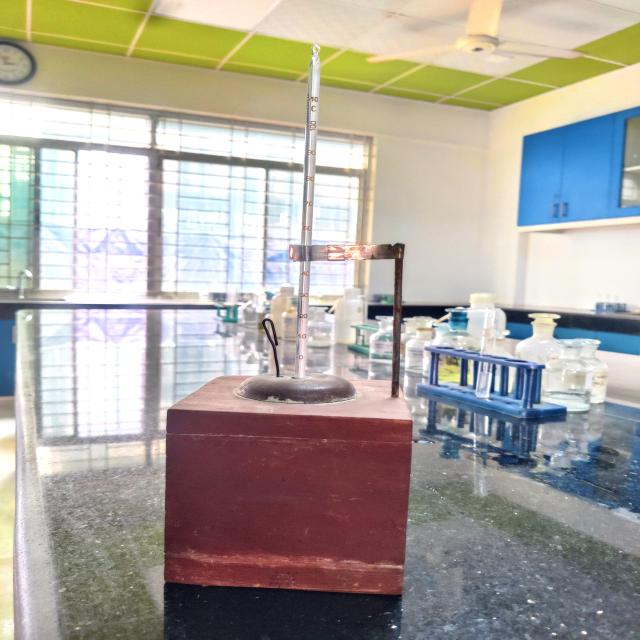Calorimeter: (116, 11, 470, 627)
